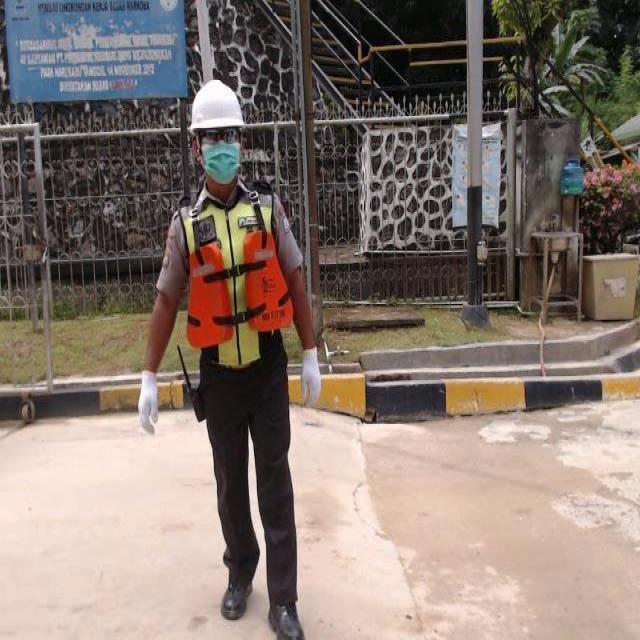Vest: (184, 232, 296, 352)
